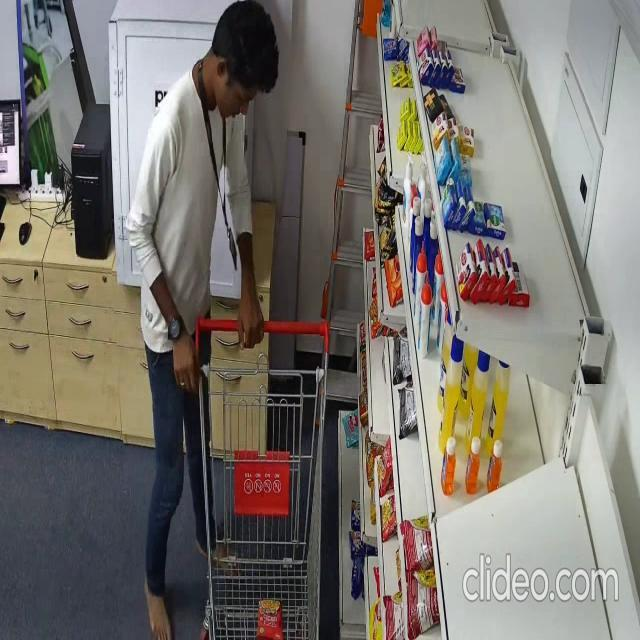normal: (138, 15, 282, 640)
